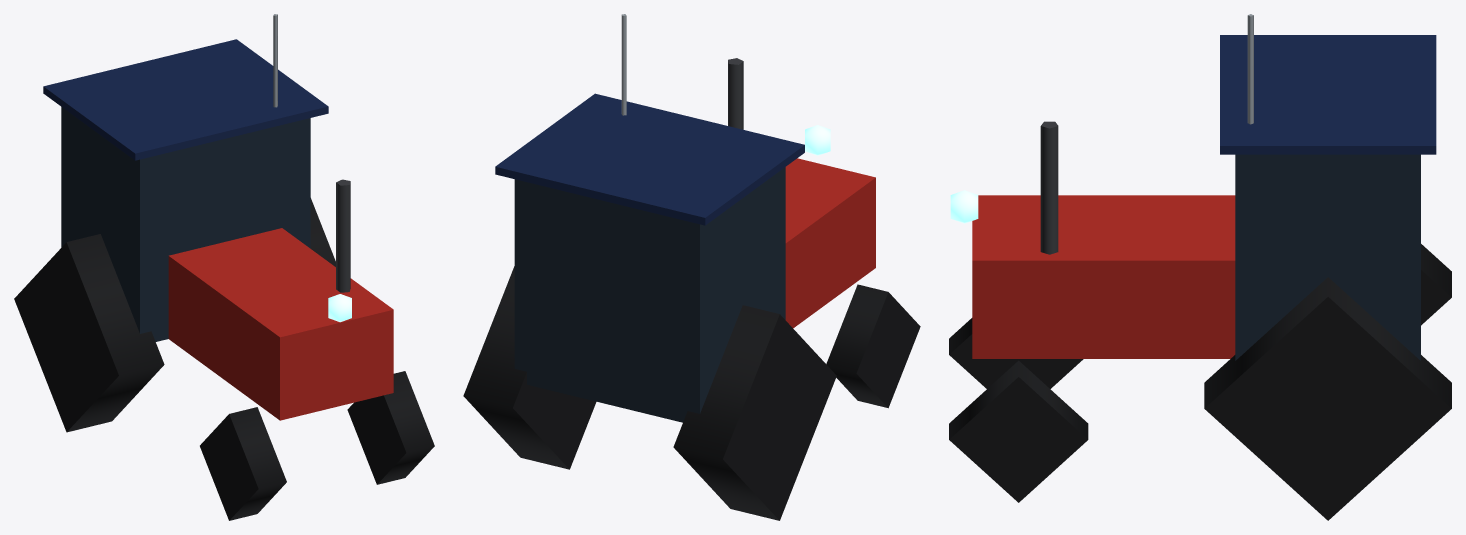
The model's file is veh_ground_tractor_a09_lod2.glb.
The picture shows the model from 3 angles, left to right: view 1: azimuth 30°, elevation 25°; view 2: azimuth 150°, elevation 25°; view 3: azimuth 270°, elevation 25°; orthographic projection. The views are drawn at different scales.
Parts seen in each view (by area): view 1: body, wheel_0, front_wheel_0, front_wheel_1, wheel_1; view 2: body, wheel_0, wheel_1, front_wheel_0; view 3: body, wheel_1, front_wheel_1, front_wheel_0, wheel_0.
Part boxes in pixels (x1,y1,x2,y2): body: (43, 14, 393, 420); wheel_0: (14, 234, 164, 432); front_wheel_0: (200, 407, 286, 520); front_wheel_1: (347, 371, 434, 484); wheel_1: (310, 198, 335, 266); body: (495, 14, 875, 422); wheel_0: (673, 305, 836, 520); wheel_1: (463, 266, 596, 469); front_wheel_0: (826, 284, 920, 408); body: (950, 14, 1436, 360); wheel_1: (1204, 277, 1451, 520); front_wheel_1: (949, 360, 1088, 502); front_wheel_0: (949, 318, 1083, 388); wheel_0: (1421, 244, 1451, 325).
Size of the model in its own units: 2.1 by 3.35 by 3.25.
